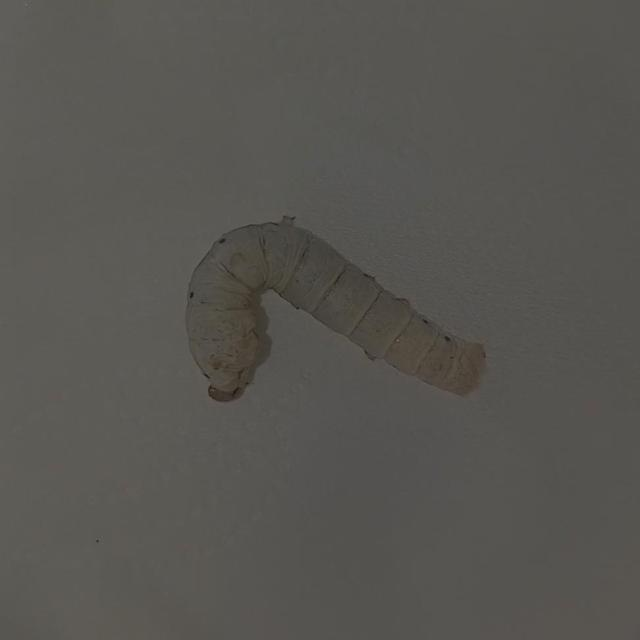Healthy: (168, 192, 496, 423)
